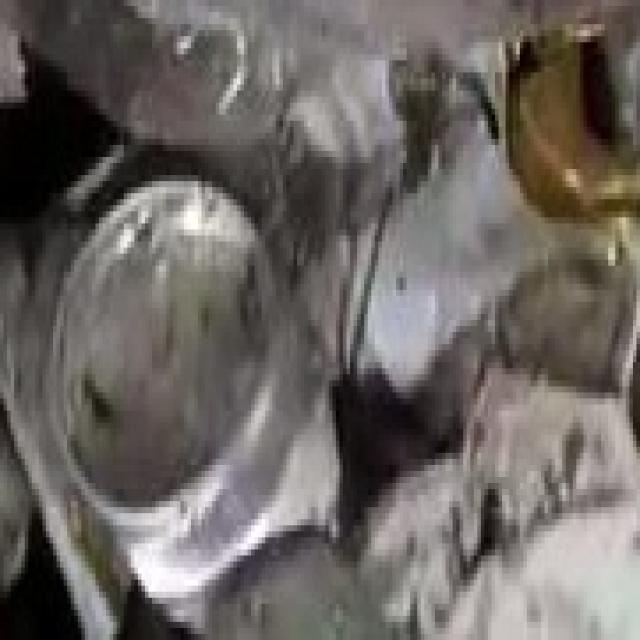litter: (40, 140, 380, 616)
